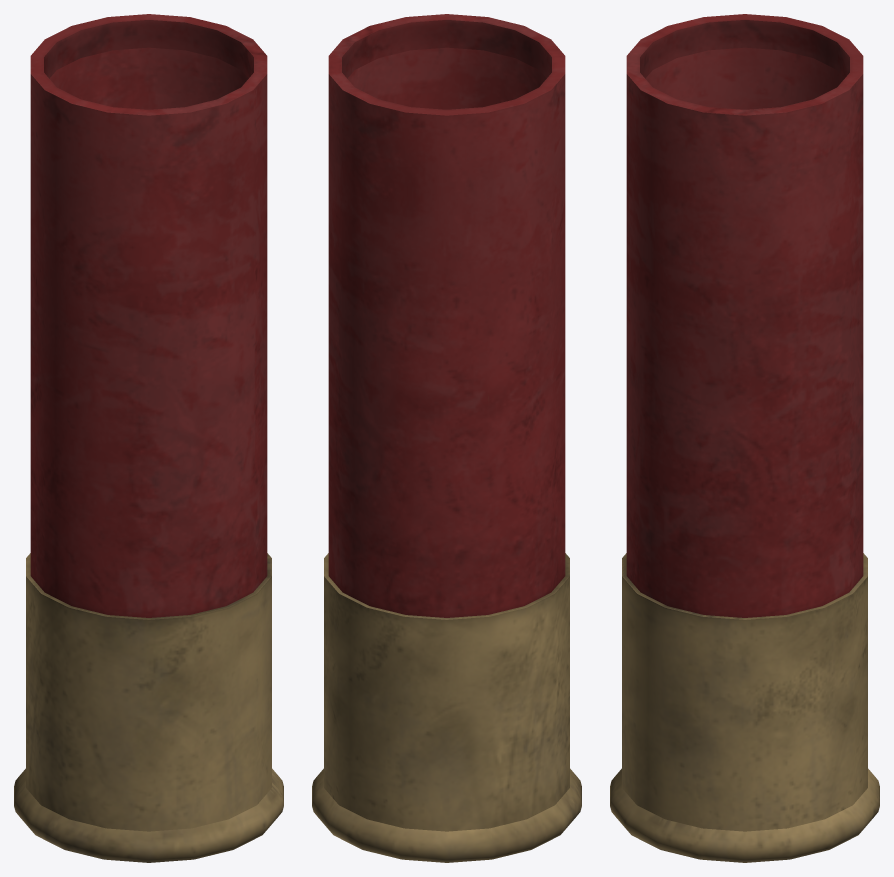
The model's file is 12_70 7mm buckshot(used).glb.
The picture shows the model from 3 angles, left to right: view 1: azimuth 30°, elevation 25°; view 2: azimuth 150°, elevation 25°; view 3: azimuth 270°, elevation 25°; orthographic projection.
Parts seen in each view (by area): view 1: 12mm; view 2: 12mm; view 3: 12mm.
Boxes of the visible parts, bbox=[...] form: 12mm: bbox=[14, 14, 283, 862]; 12mm: bbox=[312, 14, 581, 862]; 12mm: bbox=[610, 14, 879, 862].
Bounding box in the file's own units: 0.2872 × 0.8661 × 0.2829.
Materials: 1 (1 with a texture image).
